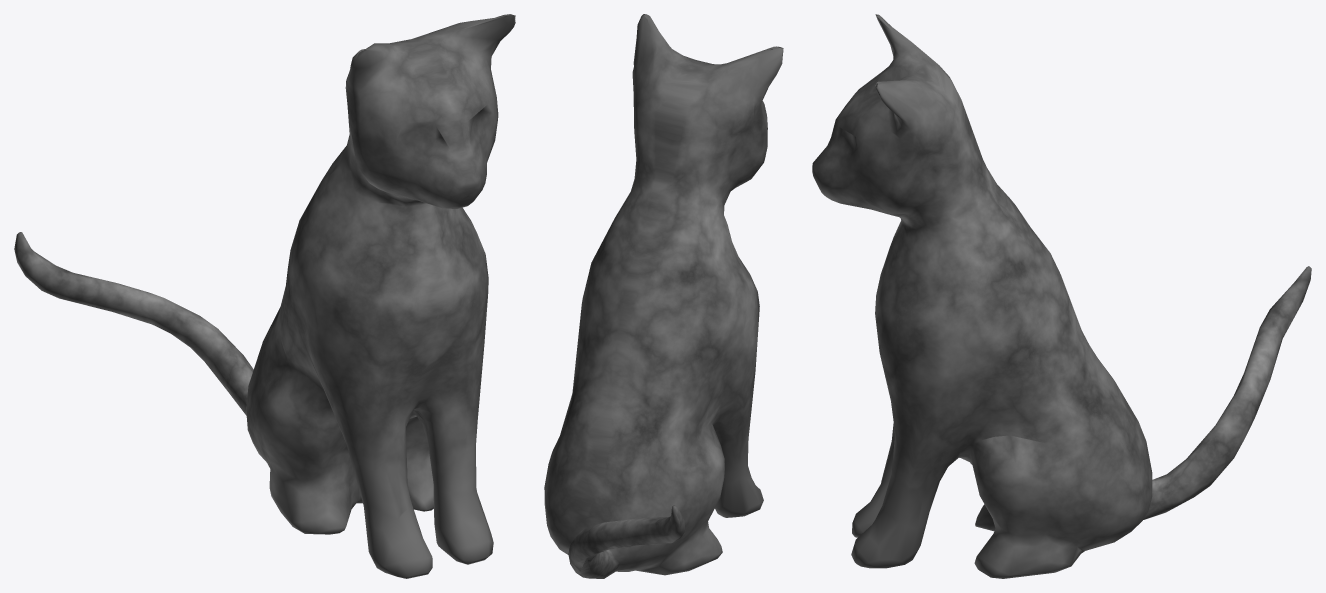
The model's file is brimby.gltf.
The picture shows the model from 3 angles, left to right: view 1: azimuth 30°, elevation 25°; view 2: azimuth 150°, elevation 25°; view 3: azimuth 270°, elevation 25°; orthographic projection. The views are drawn at different scales.
Visible parts, largest first — view 1: Brimby; view 2: Brimby; view 3: Brimby.
Part boxes in pixels (x1,y1,x2,y2): Brimby: (14, 14, 515, 578); Brimby: (544, 14, 783, 578); Brimby: (812, 14, 1311, 578).
Size of the model in its own units: 2.18 by 3.92 by 3.56.
Materials: 1 (1 with a texture image).
